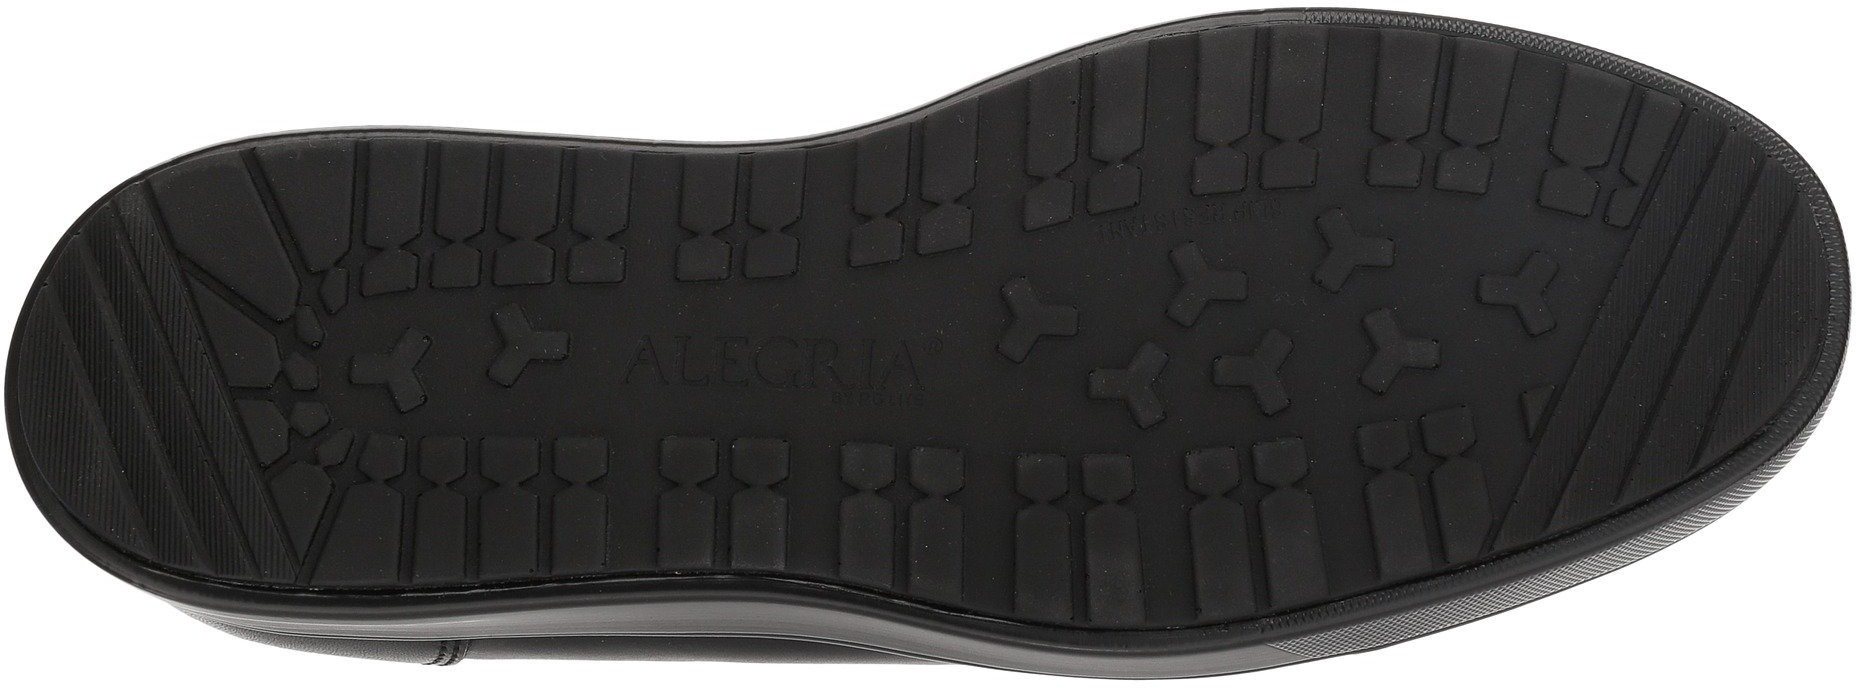bowtie: (934, 403, 1156, 611), (1356, 36, 1533, 198), (1017, 70, 1178, 234), (1178, 431, 1339, 592), (484, 139, 636, 306), (472, 411, 629, 557), (861, 131, 995, 269)
quad: (36, 314, 210, 481), (1629, 224, 1793, 390)
star: (1152, 218, 1385, 418), (331, 320, 455, 425), (1469, 247, 1572, 347)
text: (761, 284, 920, 441), (610, 296, 739, 435)
